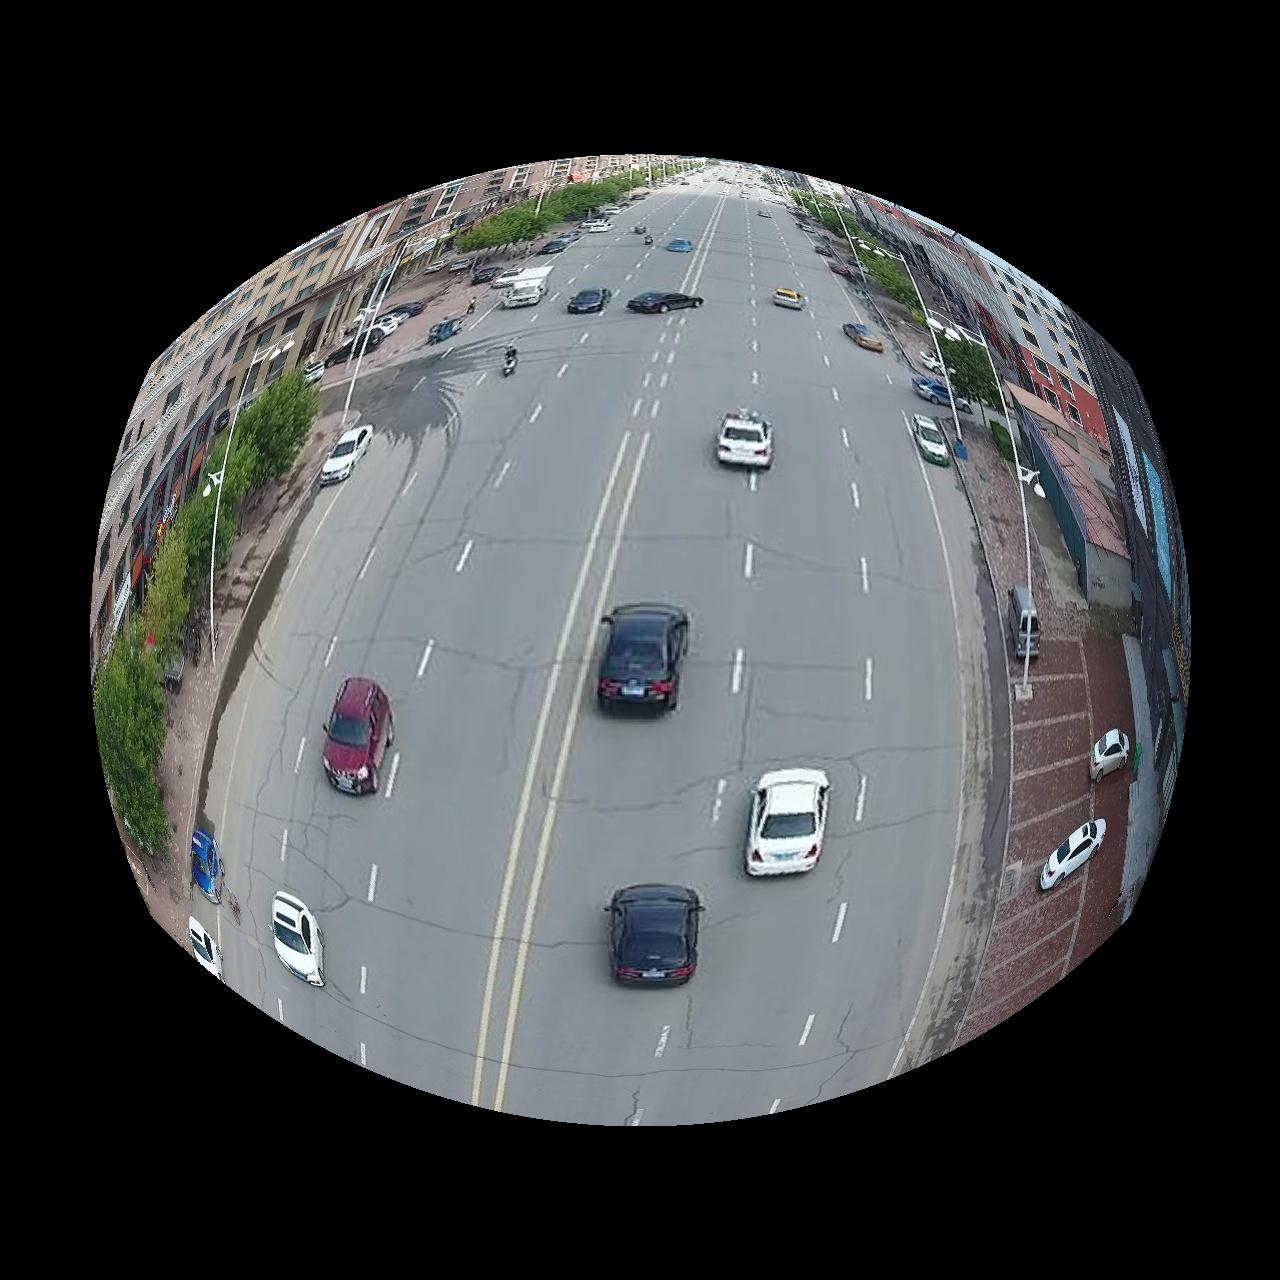building: (90, 154, 647, 664), (1084, 322, 1191, 916), (1022, 408, 1134, 608)
cars: (606, 886, 703, 988), (599, 604, 689, 712), (745, 771, 831, 878), (322, 678, 394, 796), (271, 893, 325, 988), (1041, 820, 1108, 892), (718, 409, 775, 468), (318, 425, 373, 484), (1010, 587, 1042, 662), (908, 413, 951, 466), (1092, 729, 1132, 782), (187, 918, 221, 980), (501, 266, 552, 307), (628, 290, 704, 312), (844, 321, 884, 352), (567, 287, 612, 314), (773, 286, 809, 310)
trees: (105, 493, 212, 670), (93, 622, 167, 856), (457, 175, 631, 250), (223, 370, 318, 498), (792, 190, 880, 244), (940, 334, 1003, 408), (861, 249, 921, 312), (215, 470, 239, 570)
